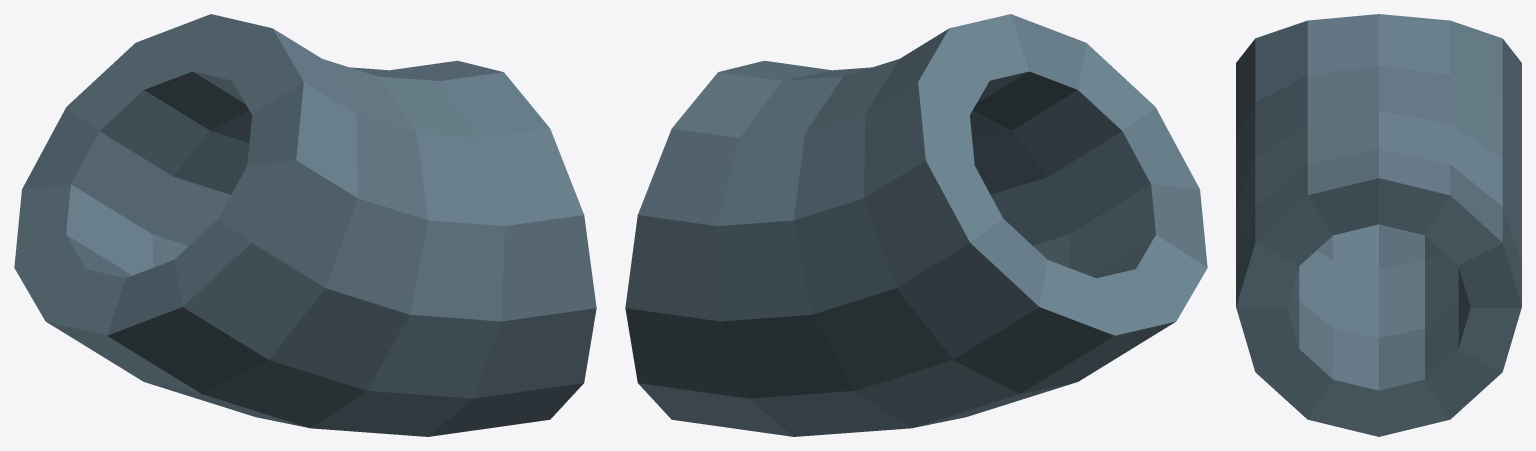
Rendered from P40_Pipe_Elbow45.fbx.
The picture shows the model from 3 angles, left to right: view 1: azimuth 30°, elevation 25°; view 2: azimuth 150°, elevation 25°; view 3: azimuth 270°, elevation 25°; orthographic projection. The views are drawn at different scales.
Visible parts, largest first — view 1: P40_Pipe_Elbow45; view 2: P40_Pipe_Elbow45; view 3: P40_Pipe_Elbow45.
Part boxes in pixels (x1,y1,x2,y2): P40_Pipe_Elbow45: (14, 14, 596, 436); P40_Pipe_Elbow45: (625, 14, 1207, 436); P40_Pipe_Elbow45: (1236, 14, 1521, 436).
Size of the model in its own units: 0.799 by 0.7269 by 0.56.
1 material, 1 textured.
